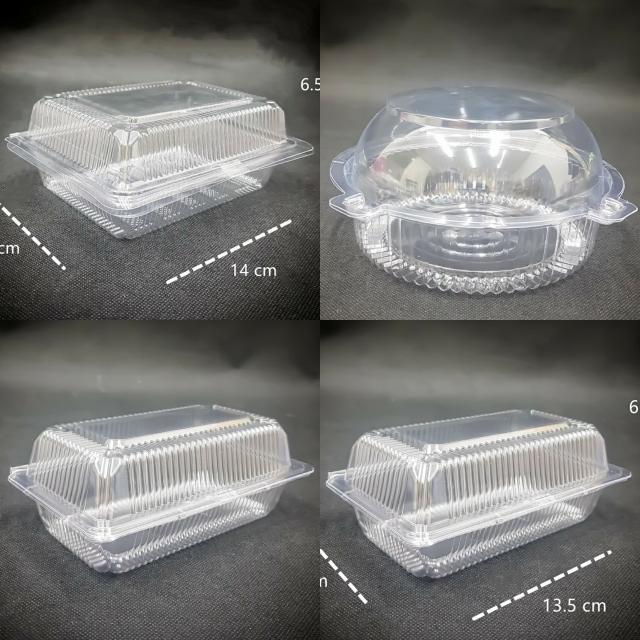Single-Use-Plastic: (330, 88, 635, 293), (9, 405, 314, 572), (326, 410, 630, 577), (7, 81, 312, 238)
